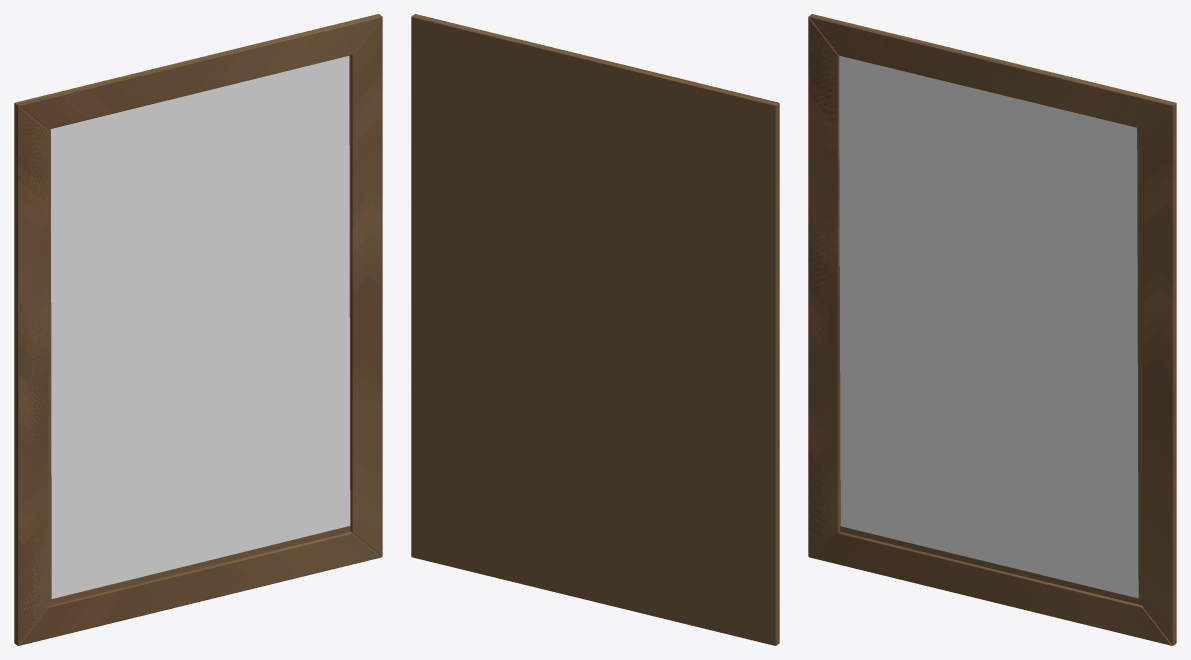
Rendered from frame2.glb.
The picture shows the model from 3 angles, left to right: view 1: azimuth 30°, elevation 25°; view 2: azimuth 150°, elevation 25°; view 3: azimuth 330°, elevation 25°; orthographic projection.
Parts seen in each view (by area): view 1: Plane.007, Plane.001_0; view 2: Plane.001_0; view 3: Plane.007, Plane.001_0.
Part boxes in pixels (x1=…): Plane.007: x1=50, y1=56, x2=350, y2=598; Plane.001_0: x1=14, y1=14, x2=382, y2=645; Plane.001_0: x1=411, y1=14, x2=779, y2=645; Plane.007: x1=839, y1=55, x2=1138, y2=598; Plane.001_0: x1=808, y1=14, x2=1176, y2=645.
Size of the model in its own units: 0.4556 by 0.6454 by 0.011.
4 materials, 1 textured.
